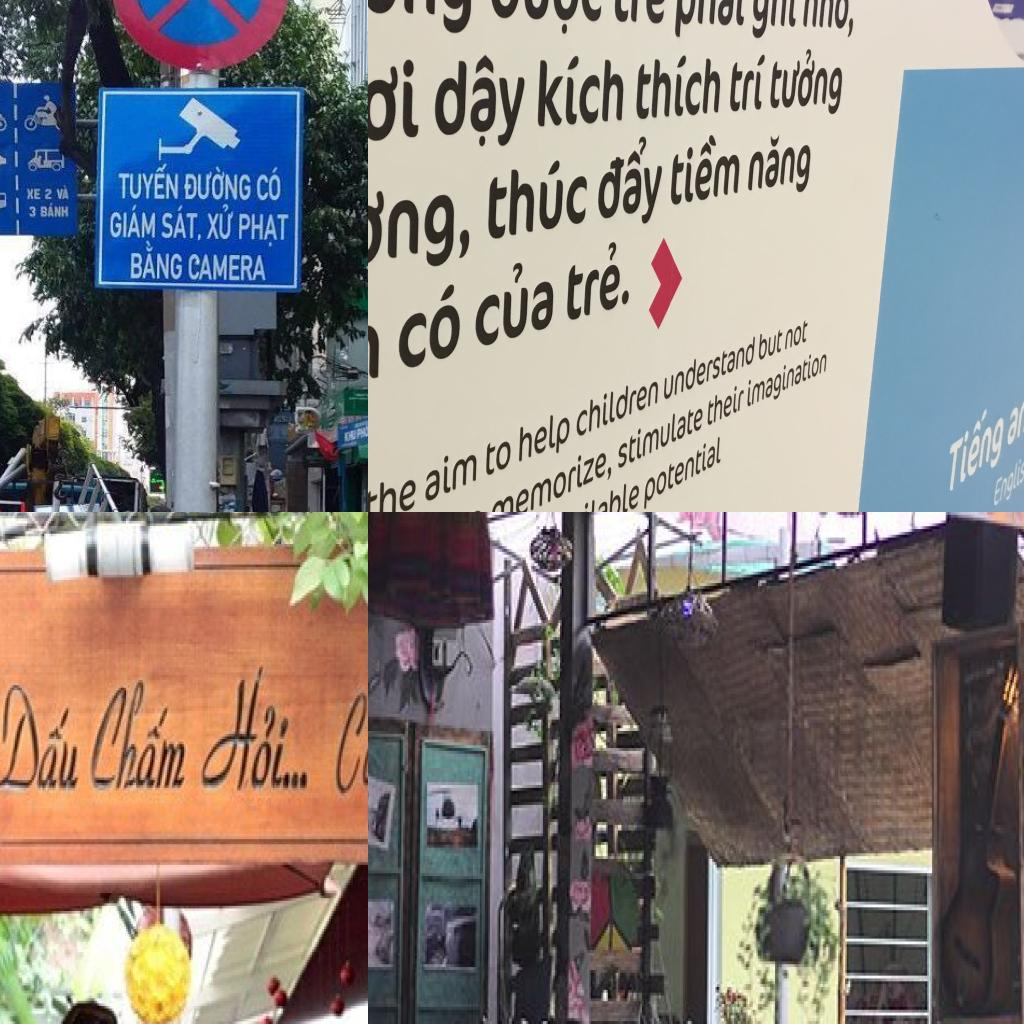text: (198, 665, 320, 798), (86, 675, 198, 793), (368, 177, 472, 300), (430, 54, 534, 158), (0, 682, 90, 795), (485, 156, 591, 248), (489, 442, 615, 512), (595, 129, 673, 240), (472, 252, 554, 352), (532, 53, 629, 133), (662, 328, 757, 407), (942, 394, 1008, 505), (614, 398, 704, 473), (641, 431, 724, 512), (633, 52, 725, 125), (394, 276, 461, 376), (576, 365, 660, 444), (745, 341, 827, 417), (669, 128, 745, 209), (768, 48, 845, 125), (563, 239, 632, 324), (745, 128, 816, 209), (329, 687, 368, 834), (368, 52, 421, 151), (487, 0, 605, 39), (516, 402, 572, 477), (424, 438, 479, 508), (545, 472, 639, 512), (673, 0, 748, 43), (184, 166, 253, 202), (188, 252, 270, 282), (728, 51, 766, 113), (117, 164, 180, 201), (801, 0, 857, 41), (368, 465, 416, 512), (129, 241, 185, 281), (749, 0, 801, 43), (706, 375, 744, 430), (238, 211, 292, 249), (612, 0, 671, 30), (109, 205, 159, 240), (160, 205, 204, 242), (1005, 375, 1024, 448), (484, 430, 512, 478), (757, 319, 785, 365), (204, 205, 236, 241), (784, 313, 808, 353), (255, 168, 282, 202), (453, 494, 483, 512), (40, 204, 68, 220), (56, 184, 70, 201), (26, 188, 42, 202), (344, 428, 356, 444), (357, 425, 368, 441), (42, 188, 54, 202), (29, 206, 37, 218)
